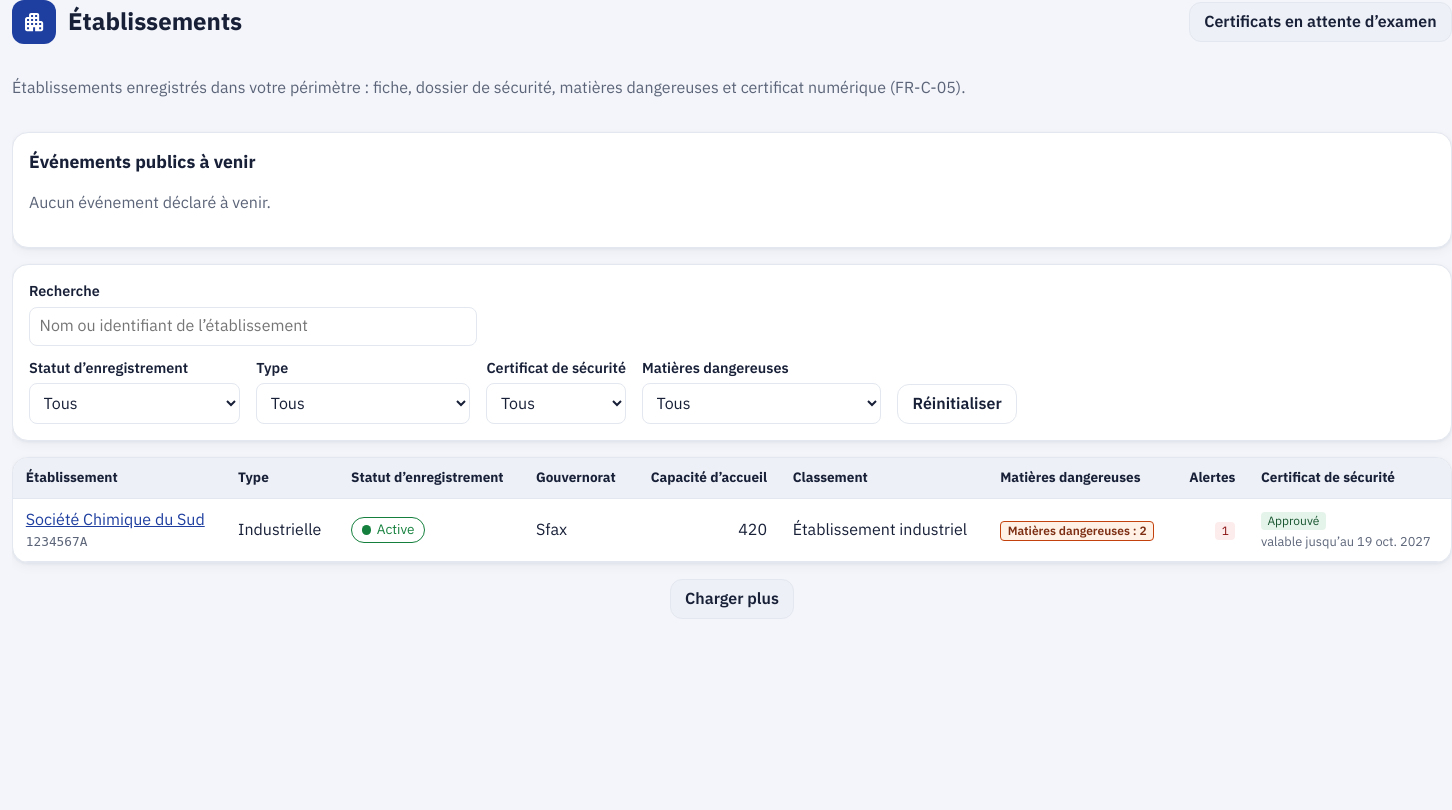
Test: OrgsPage › loads more with the cursor
Click the button "Charger plus" at (732,599), box [670,579,794,619]
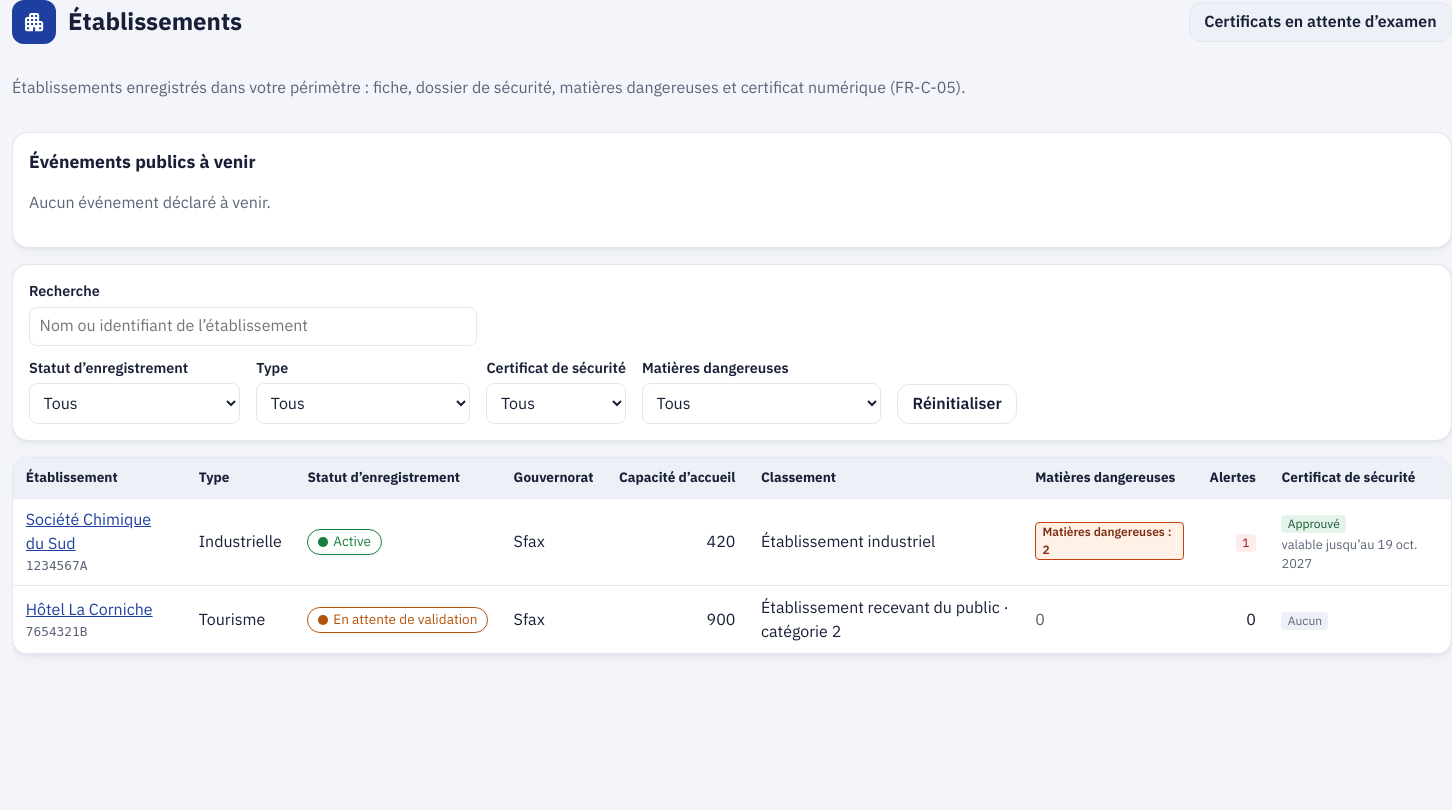
Result: the link "Hôtel La Corniche" is shown at [26,598,153,622]
